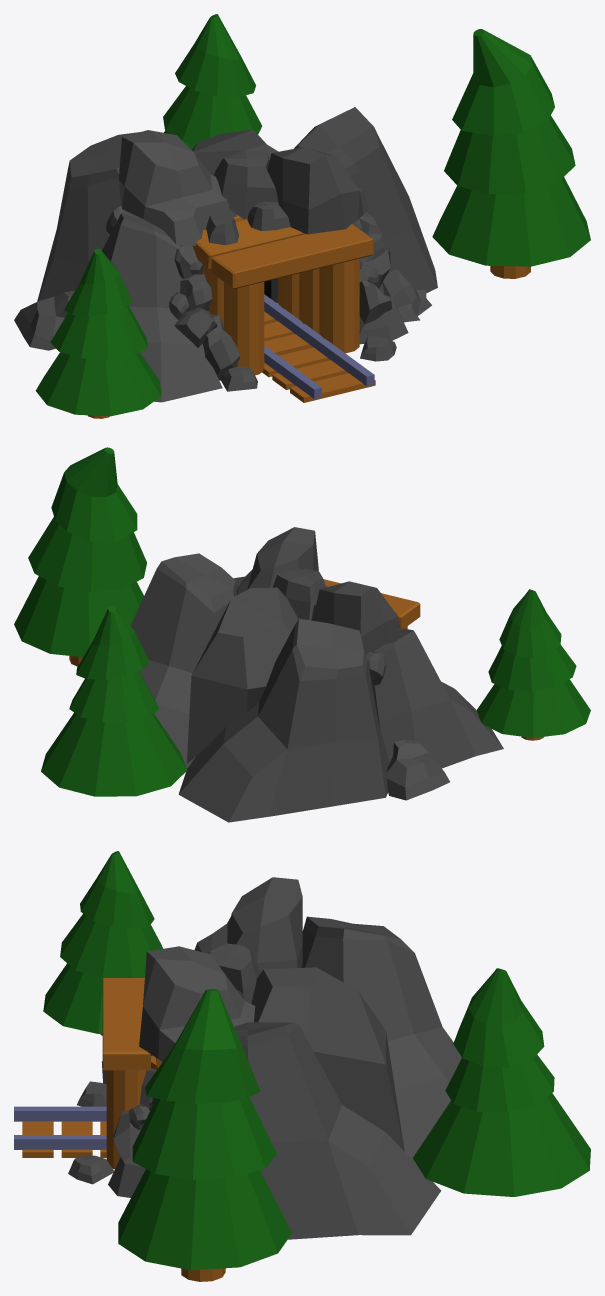
File: mine.glb
The picture shows the model from 3 angles, top to bottom: view 1: azimuth 30°, elevation 25°; view 2: azimuth 150°, elevation 25°; view 3: azimuth 270°, elevation 25°; orthographic projection. The views are drawn at different scales.
Parts seen in each view (by area): view 1: Cube.025, Cylinder.007, Cylinder.012, Cylinder.004, Cylinder.019, Cube.008, Cube.020, Cube.014; view 2: Cube.025, Cylinder.007, Cylinder.019, Cylinder.012, Cube.008; view 3: Cube.025, Cylinder.007, Cylinder.019, Cylinder.012, Cube.008, Cube.014, Cylinder.004, Cube.020.
Boxes of the visible parts, <box> form: Cube.025: <box>14,107,437,402</box>; Cylinder.007: <box>432,29,590,266</box>; Cylinder.012: <box>35,248,161,416</box>; Cylinder.004: <box>202,258,359,375</box>; Cylinder.019: <box>163,14,261,149</box>; Cube.008: <box>192,214,373,288</box>; Cube.020: <box>262,311,375,402</box>; Cube.014: <box>264,294,374,399</box>; Cube.025: <box>130,527,503,822</box>; Cylinder.007: <box>14,447,146,657</box>; Cylinder.019: <box>41,606,187,796</box>; Cylinder.012: <box>477,589,590,737</box>; Cube.008: <box>323,579,420,629</box>; Cube.025: <box>68,877,461,1239</box>; Cylinder.007: <box>118,989,291,1270</box>; Cylinder.019: <box>413,968,590,1196</box>; Cylinder.012: <box>43,851,162,1033</box>; Cube.008: <box>102,978,162,1070</box>; Cube.014: <box>14,1106,106,1149</box>; Cylinder.004: <box>106,1054,157,1169</box>; Cube.020: <box>22,1121,106,1157</box>.
Size of the model in its own units: 19.54 by 8.07 by 15.28.
